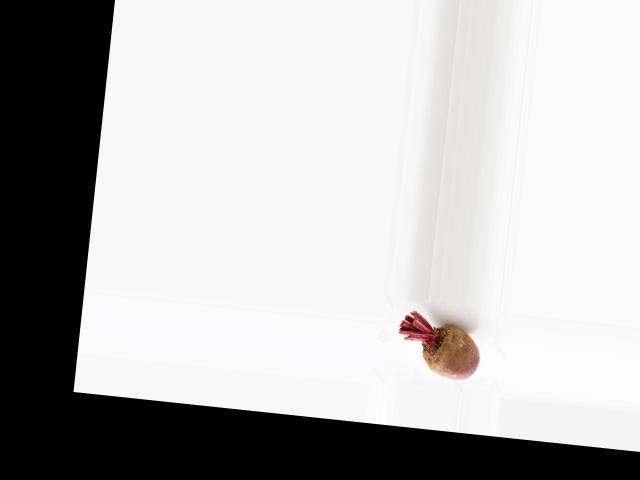beet: (394, 308, 484, 382)
